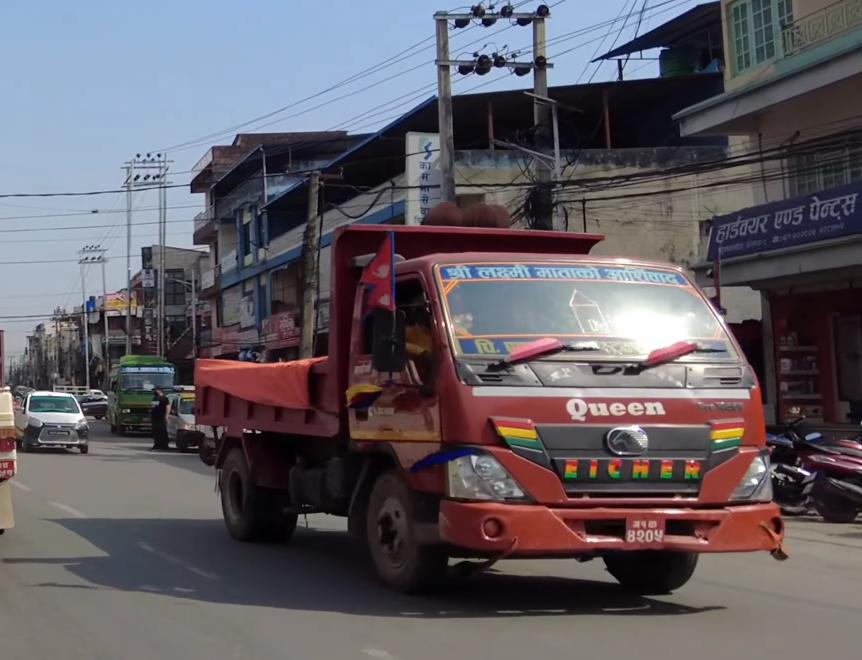bus: (105, 335, 168, 453)
mini_truck: (181, 202, 790, 592)
scooter: (780, 399, 862, 518)
taxi: (17, 380, 92, 462)
